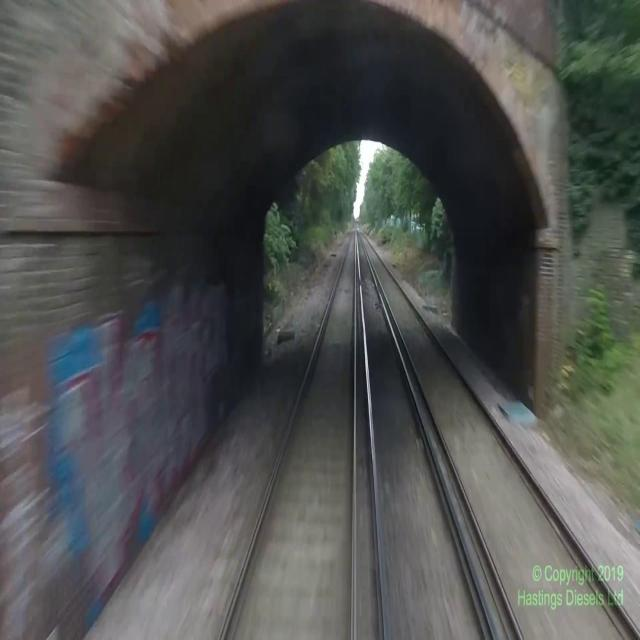rail-track: (360, 231, 637, 639), (222, 232, 355, 639)
